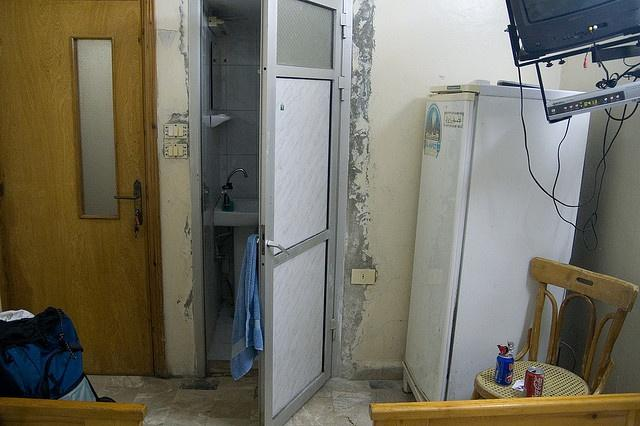Kursi: (469, 256, 637, 399)
